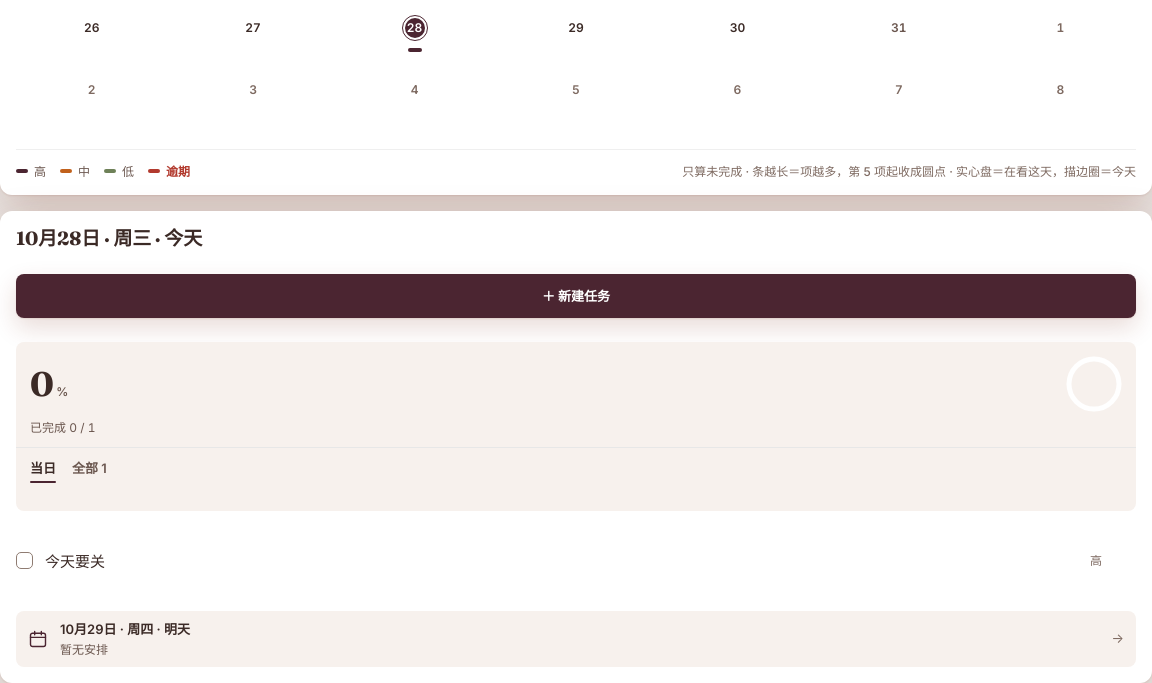
TasksView calendar › lifts a mark off the calendar once the task is checked off
This screenshot has width=1152, height=683.
(page scrolled)
Expected: the number of icons with class "slice" is 1, [408,48,422,52]
Click the checkbox named "完成 今天要关" at (24, 561), box [16,552,33,569]
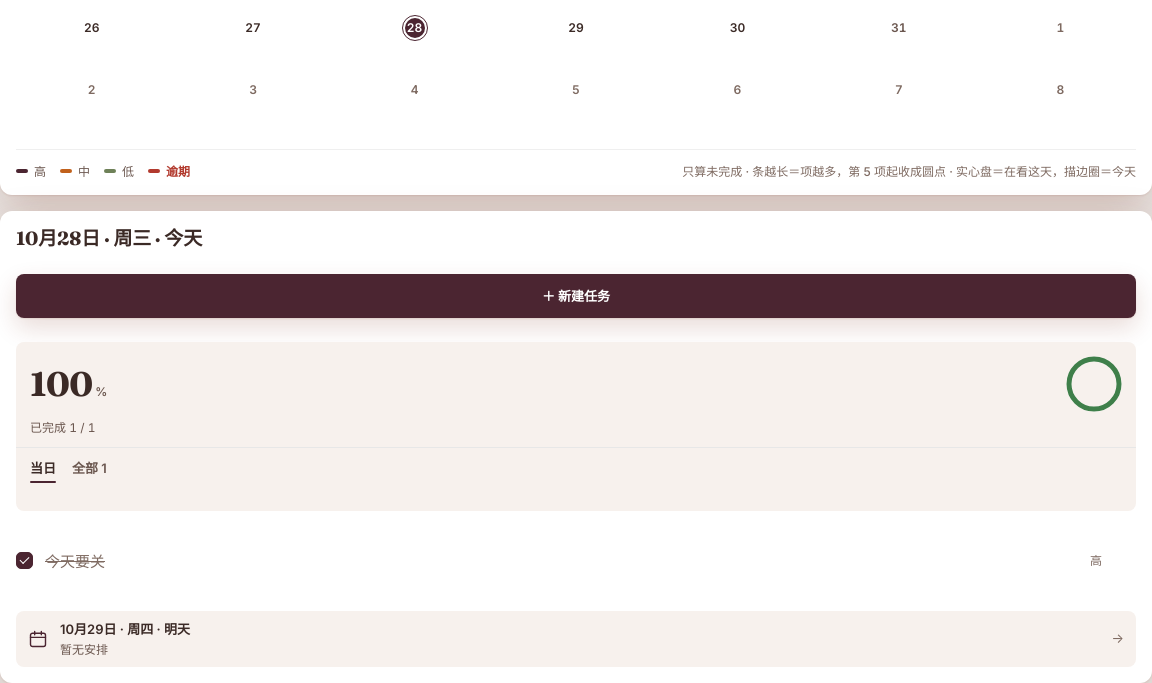
Now no icons with class "slice" are shown
